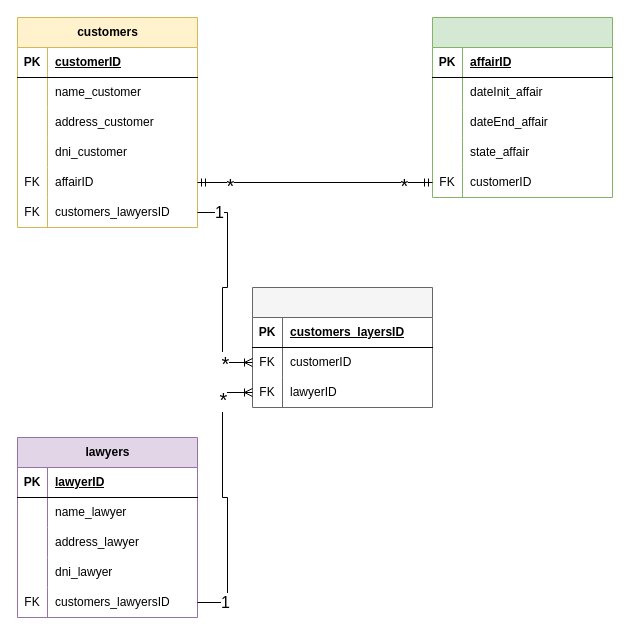
This 630x635 diagram has some shape labels left out. Each missing label, with the box of its shape:
affairs: (432, 16, 612, 198)
customers_lawyers: (252, 286, 432, 408)
